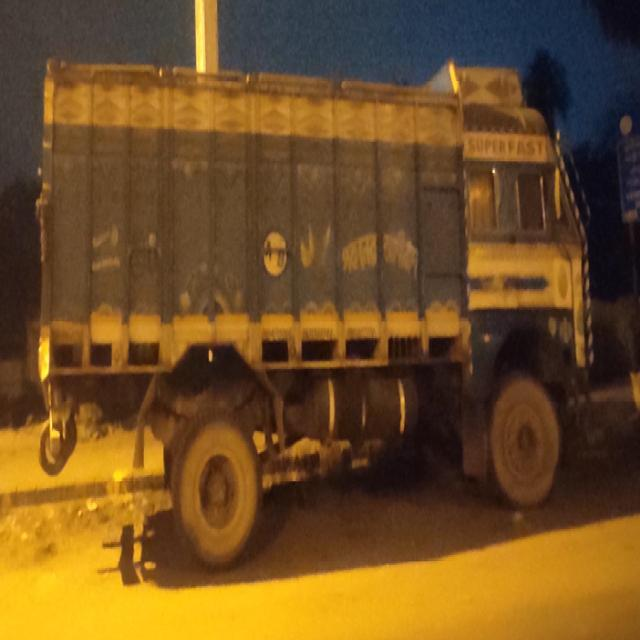truck: (46, 34, 566, 542)
